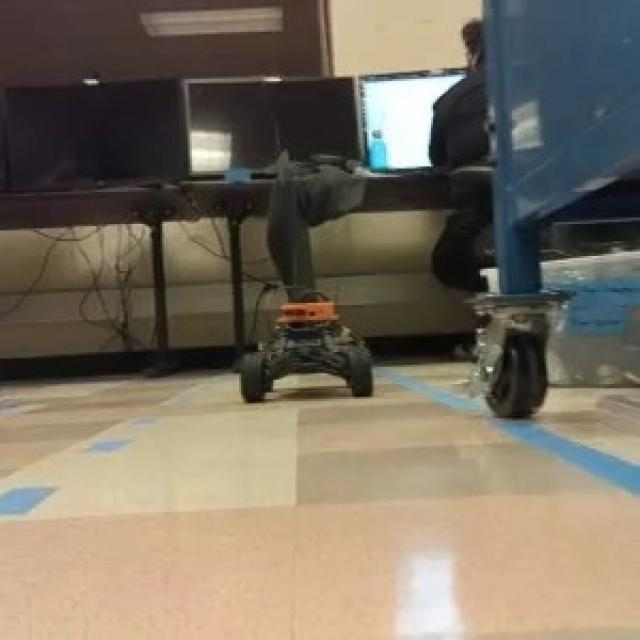obstacle: (232, 288, 384, 408)
